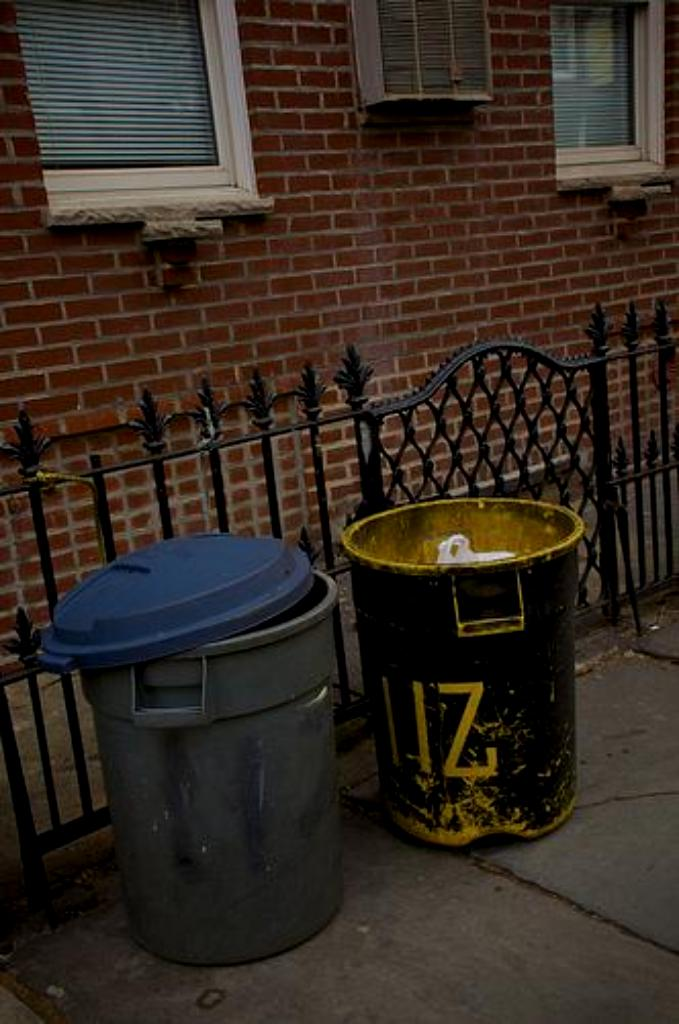dustbin: (43, 528, 369, 970), (345, 476, 603, 866)
